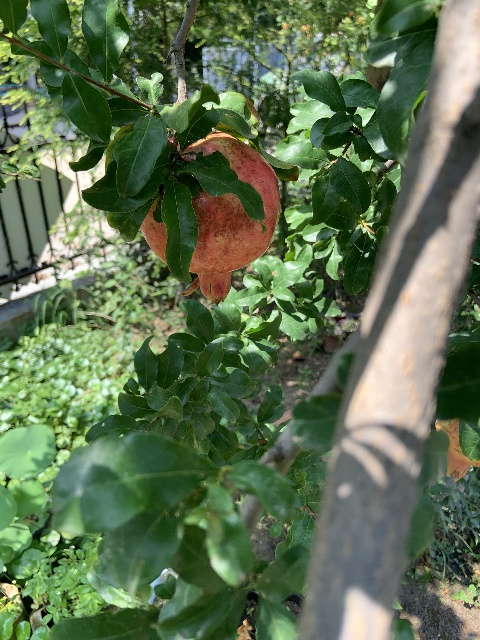ripe: (140, 131, 280, 305)
